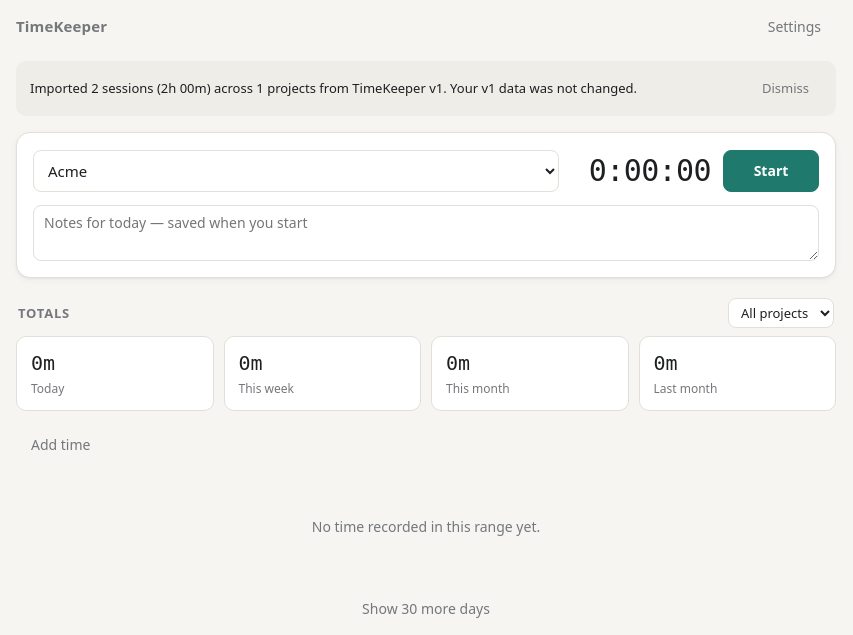
App › ignores an older refresh that resolves after a newer one
Check: the heading "TimeKeeper" is shown, box x1=16 y1=16 x2=107 y2=38
Select "Beta" in the dropdown showing "All projects" in the row of "Totals". click: (781, 313)
box: x1=728 y1=298 x2=834 y2=328
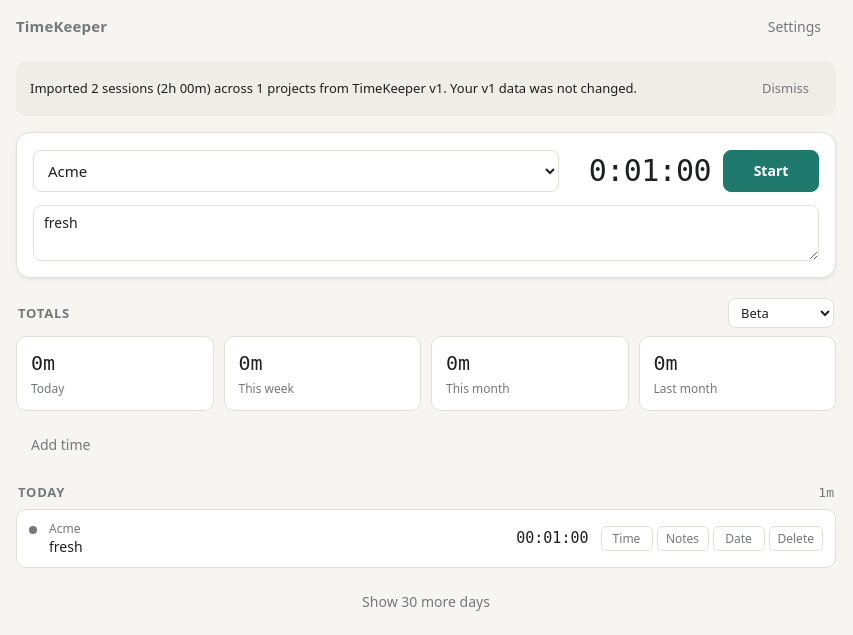
Check: the button titled "Edit notes" reads "fresh", box x1=49 y1=537 x2=504 y2=558
